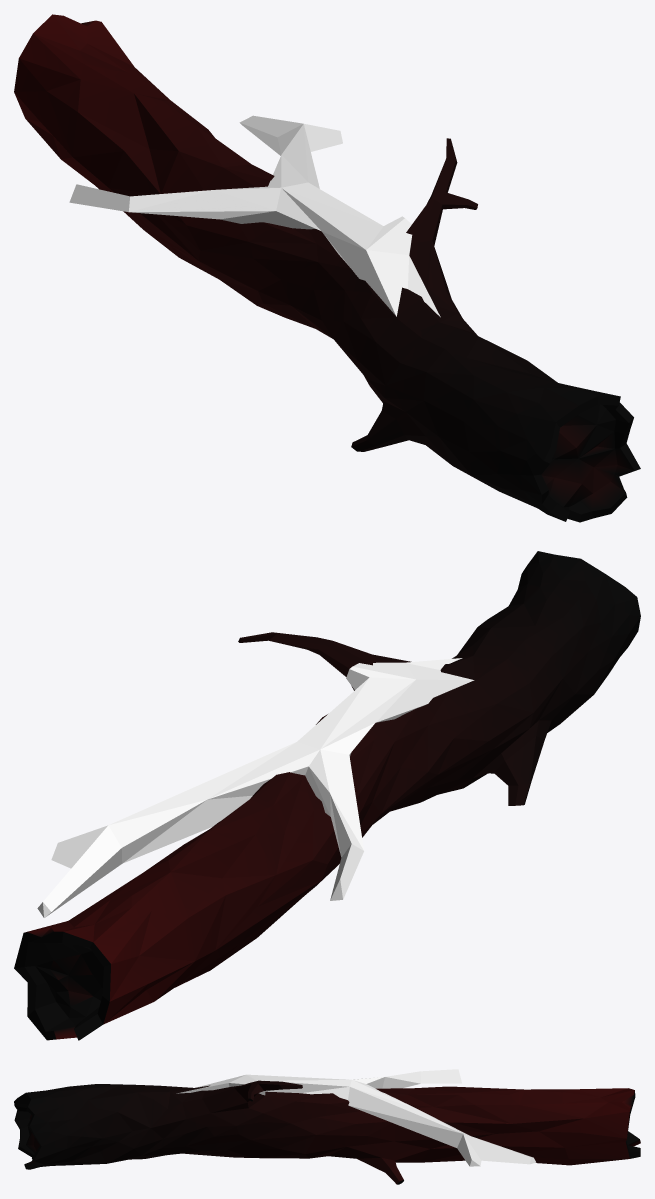
Rendered from treebranchandLog.fbx.
The picture shows the model from 3 angles, top to bottom: view 1: azimuth 30°, elevation 25°; view 2: azimuth 150°, elevation 25°; view 3: azimuth 270°, elevation 25°; orthographic projection. The views are drawn at different scales.
Visible parts, largest first — view 1: TreeLog, Tree_branch; view 2: TreeLog, Tree_branch; view 3: TreeLog, Tree_branch.
Part boxes in pixels (bbox=[...]): TreeLog: bbox=[14, 14, 640, 522]; Tree_branch: bbox=[69, 115, 440, 317]; TreeLog: bbox=[14, 551, 640, 1040]; Tree_branch: bbox=[37, 658, 474, 917]; TreeLog: bbox=[14, 1080, 640, 1184]; Tree_branch: bbox=[176, 1069, 536, 1166].
Size of the model in its own units: 183 by 122 by 610.
